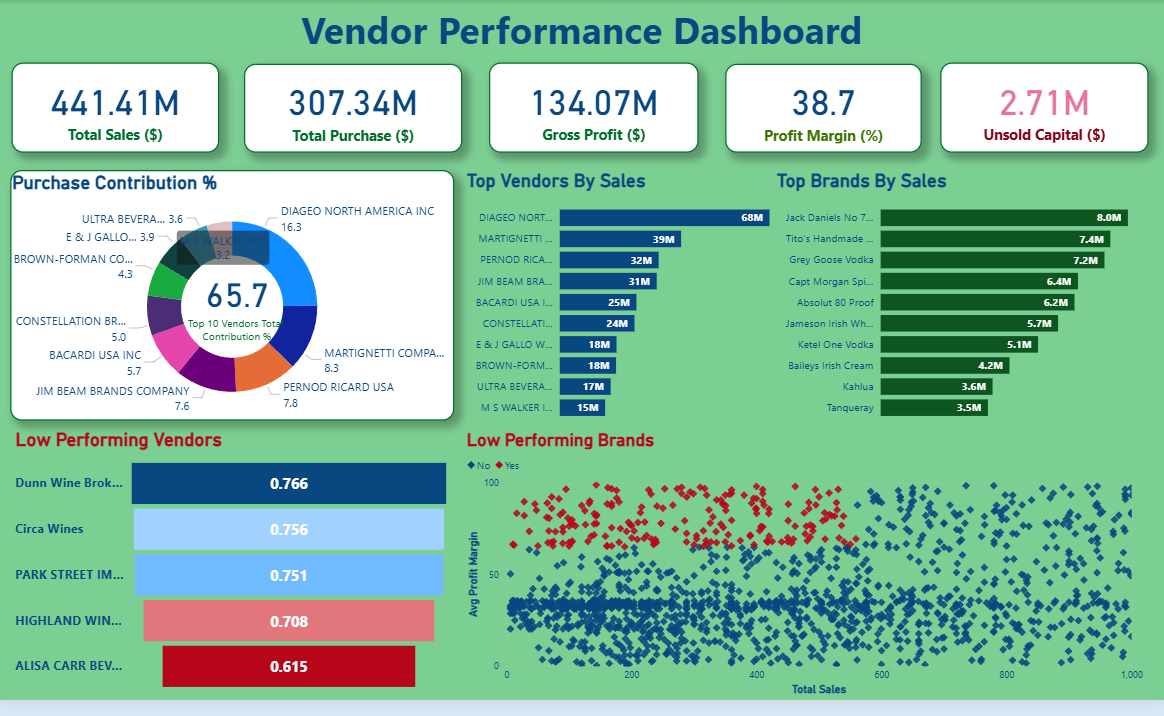

What the dashboard file says about the page in this screenshot:
{"tool":"powerbi","page":{"name":"Page 1","canvas":[1500,900],"ordinal":0},"visuals":[{"type":"card","fields":{"Values":["Sum(vendor_sales_summary.TotalPurchaseDollars)"]},"box":[315.8,82.4,280.9,114.6],"z":0},{"type":"card","fields":{"Values":["Sum(vendor_sales_summary.TotalSalesDollars)"]},"box":[16.8,81,266.9,116],"z":1000},{"type":"card","fields":{"Values":["Sum(vendor_sales_summary.GrossProfit)"]},"box":[630.2,81,269.7,116],"z":2000},{"type":"card","fields":{"Values":["Avg(vendor_sales_summary.ProfitMargin)"]},"box":[934.8,82.4,252.9,114.6],"z":3000},{"type":"card","fields":{"Values":["Sum(vendor_sales_summary.UnsoldCapital)"]},"box":[1210.1,81,268.3,116],"z":4000},{"type":"textbox","box":[0,0,1500,83],"z":5000},{"type":"donutChart","title":"Purchase Contribution % ","fields":{"Category":["PurchaseContribution.VendorName"],"Y":["Sum(PurchaseContribution.PurchaseContribution%)"]},"box":[14.5,219.4,571,322.6],"z":6000},{"type":"card","fields":{"Values":["Sum(PurchaseContribution.PurchaseContribution%)"]},"box":[211.8,266.7,188.2,233.3],"z":7000},{"type":"barChart","title":"Top Vendors By Sales","fields":{"Category":["vendor_sales_summary.VendorName"],"Y":["Sum(vendor_sales_summary.TotalSalesDollars)"]},"box":[597.3,219.2,447.9,332.9],"z":8000},{"type":"barChart","title":"Top Brands By Sales","fields":{"Category":["vendor_sales_summary.Description"],"Y":["Sum(vendor_sales_summary.TotalSalesDollars)"]},"box":[995.9,219.2,504.1,332.9],"z":9000},{"type":"funnel","title":"Low Performing Vendors","fields":{"Category":["LowTurnoverVendor.VendorName"],"Y":["Avg(LowTurnoverVendor.AvgStockTurnOver)"]},"box":[16.1,551.6,569.4,348.4],"z":10000},{"type":"scatterChart","title":"Low Performing Brands","fields":{"X":["Sum(BrandPerformance.TotalSales)"],"Y":["Sum(BrandPerformance.AvgProfitMargin)"],"Series":["BrandPerformance.TargetBrand"],"Category":["BrandPerformance.Description"]},"box":[596.8,551.6,880.6,348.4],"z":11000}]}

Visuals, with their boxes in screenshot pixels (x1, y1, x2, y2), scaled from the page's 1500x900 canvas onto the 1164x716 screenshot:
card - Sum(vendor_sales_summary.TotalPurchaseDollars): box(245, 66, 463, 157)
card - Sum(vendor_sales_summary.TotalSalesDollars): box(13, 64, 220, 157)
card - Sum(vendor_sales_summary.GrossProfit): box(489, 64, 698, 157)
card - Avg(vendor_sales_summary.ProfitMargin): box(725, 66, 922, 157)
card - Sum(vendor_sales_summary.UnsoldCapital): box(939, 64, 1147, 157)
textbox: box(0, 0, 1163, 66)
"Purchase Contribution % " donutChart: box(11, 175, 454, 431)
card - Sum(PurchaseContribution.PurchaseContribution%): box(164, 212, 310, 398)
"Top Vendors By Sales" barChart: box(464, 174, 811, 439)
"Top Brands By Sales" barChart: box(773, 174, 1163, 439)
"Low Performing Vendors" funnel: box(12, 439, 454, 715)
"Low Performing Brands" scatterChart: box(463, 439, 1146, 715)
